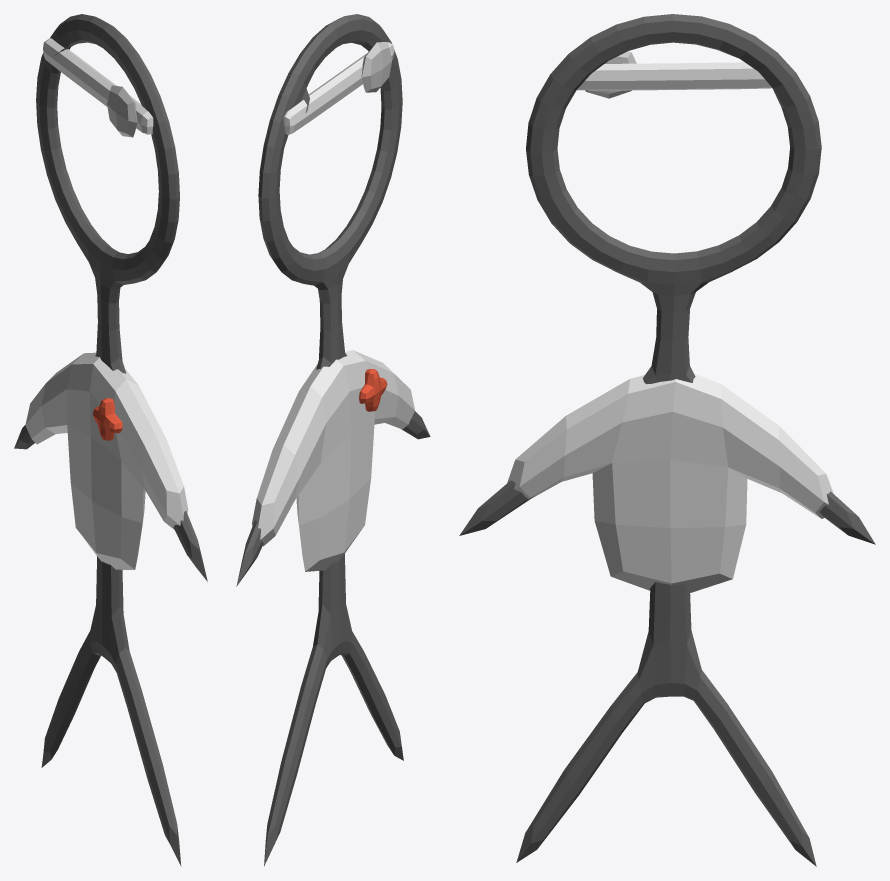
File: glinda.glb
The picture shows the model from 3 angles, left to right: view 1: azimuth 30°, elevation 25°; view 2: azimuth 150°, elevation 25°; view 3: azimuth 270°, elevation 25°; orthographic projection. The views are drawn at different scales.
Parts seen in each view (by area): view 1: Circle.001; view 2: Circle.001; view 3: Circle.001.
Part boxes in pixels (x1,y1,x2,y2): Circle.001: (14, 14, 207, 866); Circle.001: (236, 14, 430, 866); Circle.001: (459, 14, 875, 866).
Bounding box in the file's own units: 0.1721 × 3.04 × 1.35.
